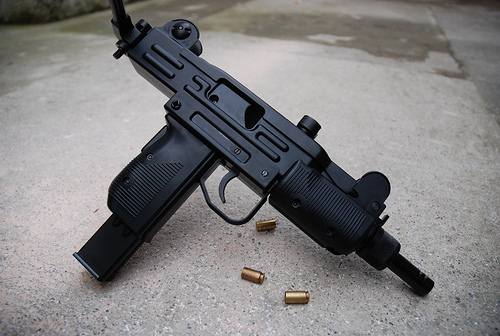rifle: (64, 7, 446, 317)
